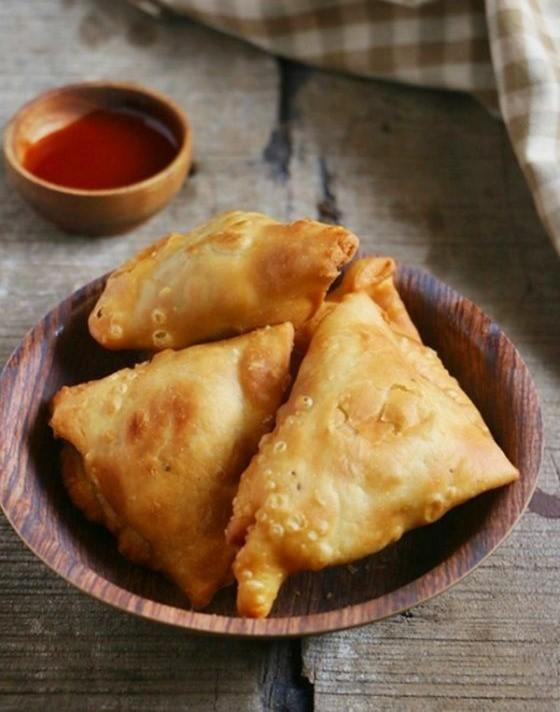Samosa: (235, 253, 521, 612), (46, 324, 292, 603), (89, 213, 359, 332)
